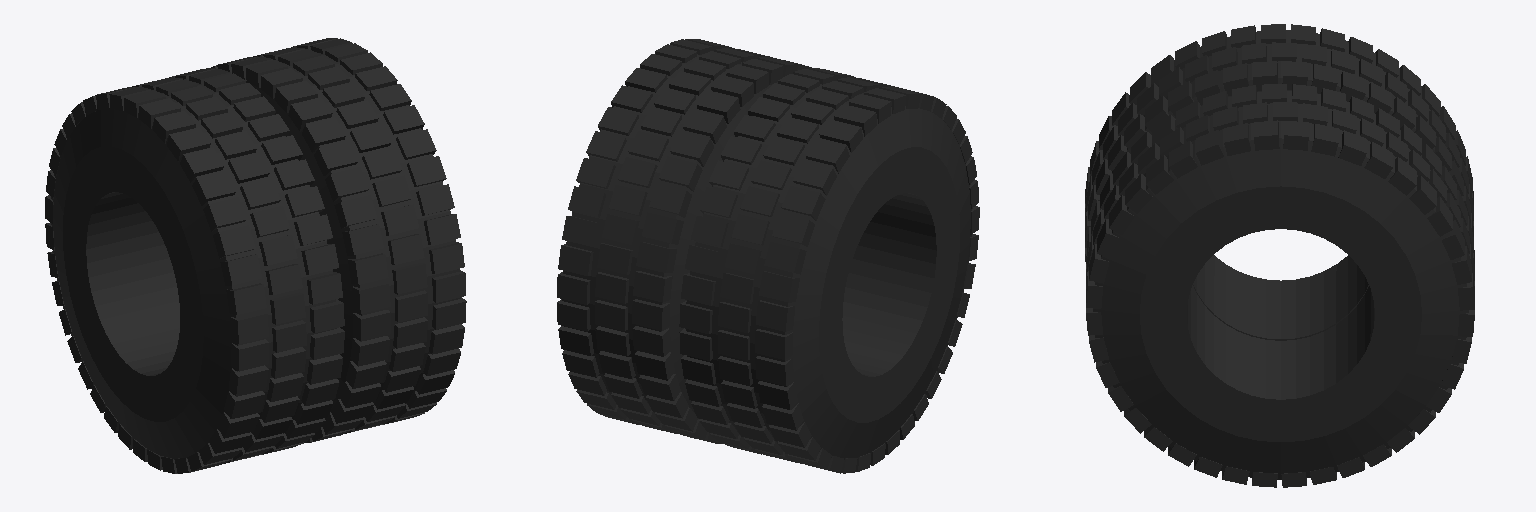
The model's file is ruoteP1B.obj.
3 views of the same model, side by side, from view 1: azimuth 30°, elevation 25°; view 2: azimuth 150°, elevation 25°; view 3: azimuth 270°, elevation 25° (orthographic).
Visible parts, largest first — view 1: Tube14, Box1141, Box1140, Tube13; view 2: Tube14, Box1141, Box1140, Tube13; view 3: Tube13, Box1140, Box1141, Tube14.
Part boxes in pixels (left/top/right/bottom): Tube14: left=51, top=82, right=336, bottom=459; Box1141: left=45, top=68, right=344, bottom=473; Box1140: left=211, top=38, right=466, bottom=442; Tube13: left=246, top=52, right=460, bottom=411; Tube14: left=686, top=83, right=972, bottom=459; Box1141: left=679, top=68, right=979, bottom=473; Box1140: left=557, top=39, right=811, bottom=443; Tube13: left=562, top=51, right=777, bottom=418; Tube13: left=1093, top=91, right=1468, bottom=479; Box1140: left=1086, top=84, right=1474, bottom=487; Box1141: left=1085, top=24, right=1473, bottom=261; Tube14: left=1112, top=30, right=1449, bottom=340.
Bounding box in the file's own units: 8.76 × 12.08 × 12.11.